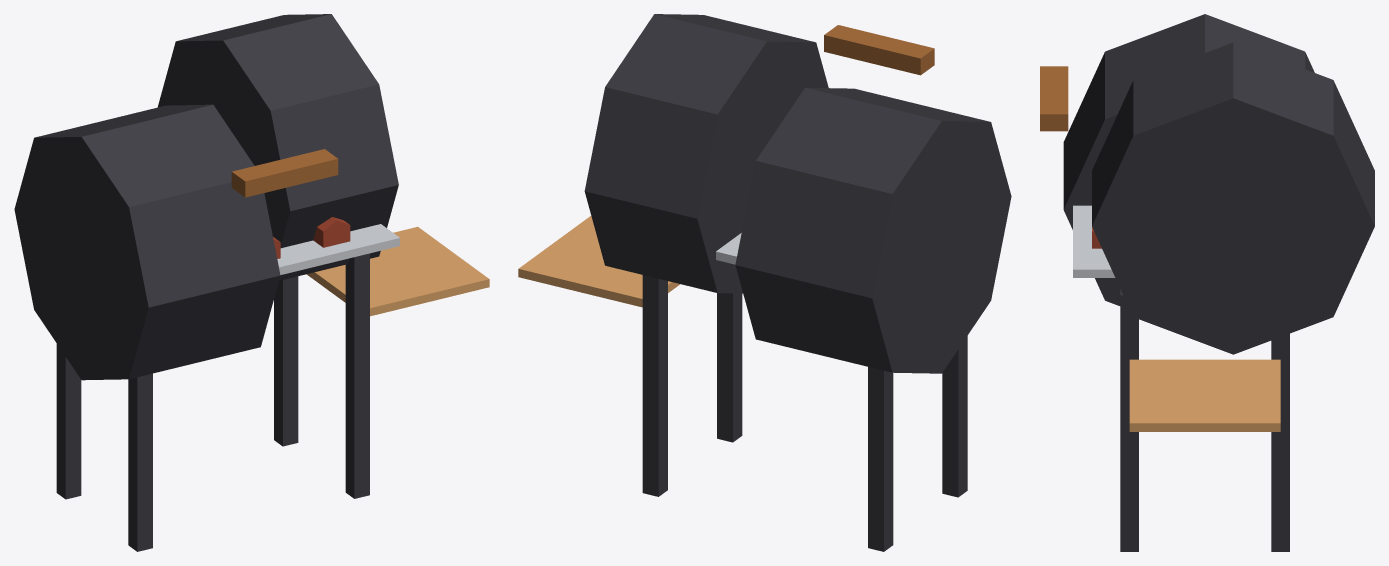
Rendered from BBQGrill.fbx.
The picture shows the model from 3 angles, left to right: view 1: azimuth 30°, elevation 25°; view 2: azimuth 150°, elevation 25°; view 3: azimuth 270°, elevation 25°; orthographic projection. The views are drawn at different scales.
Parts seen in each view (by area): view 1: BBQGrill; view 2: BBQGrill; view 3: BBQGrill.
Part boxes in pixels (box(x1,y1,x2,y2)): BBQGrill: box(14, 14, 489, 551); BBQGrill: box(518, 14, 1011, 551); BBQGrill: box(1040, 14, 1374, 551).
Size of the model in its own units: 4.8 by 5.4 by 3.55.
1 material, 1 textured.
